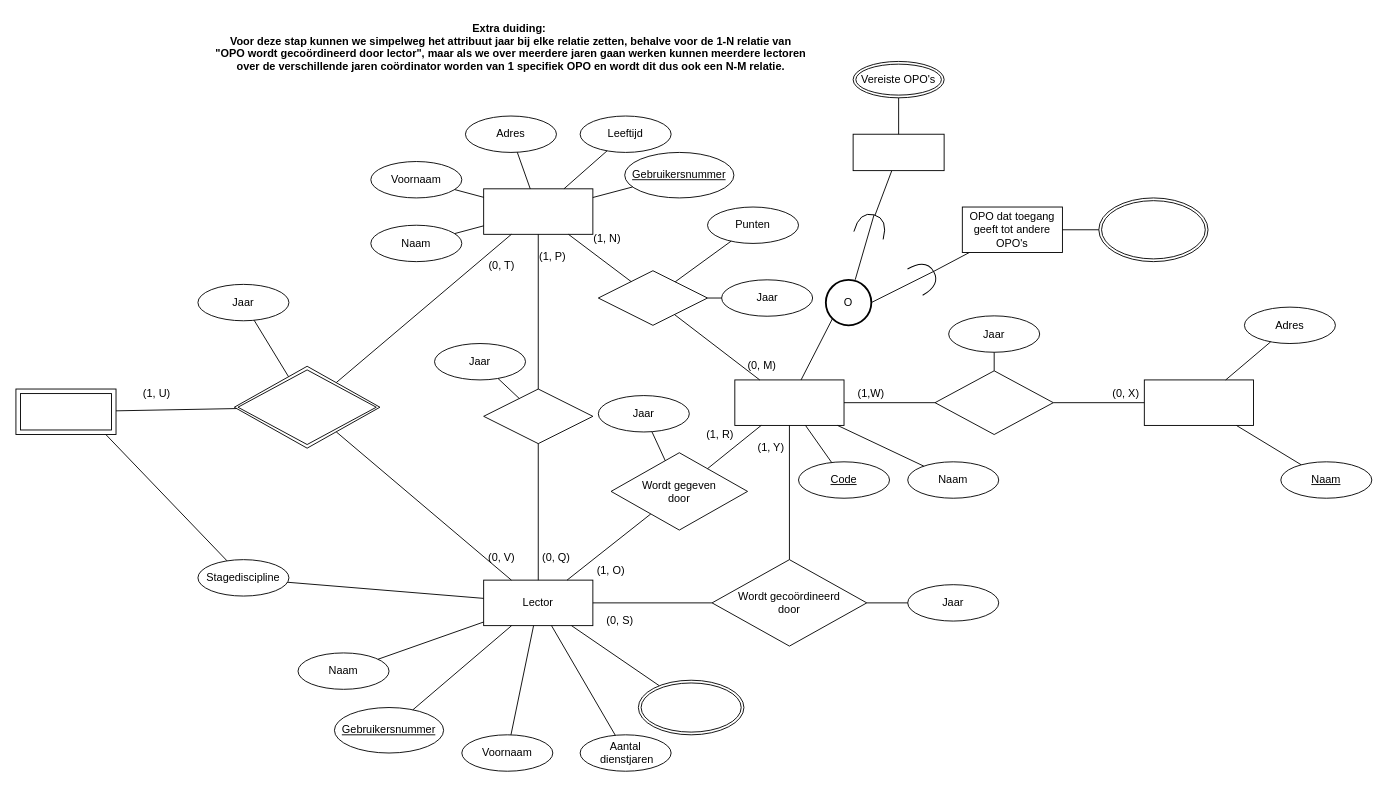
The diagram is 1388 pixels wide and 787 high, and some of its shapes have lost their labels. The shapes that lost their labels are listed below. From the top down, each one's centre as x and y in pixels, then its label:
pixel 898 152: OPO dat andere OPO's vereist
pixel 538 211: Student
pixel 1153 229: OPO's waartoe toegang verleend wordt
pixel 652 297: Volgt
pixel 65 411: Stage
pixel 306 406: Word gecoachd voor en door
pixel 538 416: Volgt les bij
pixel 789 402: Opleidingsonderdeel
pixel 993 402: Wordt gegeven op
pixel 1198 402: Campus
pixel 690 707: Gespecialiseerde discipline
